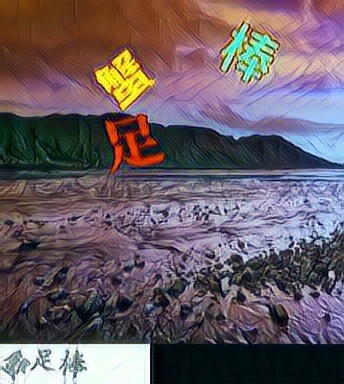B0F4: (215, 17, 280, 83)
D0B7: (91, 47, 156, 113)
D7E3: (101, 112, 166, 178)
